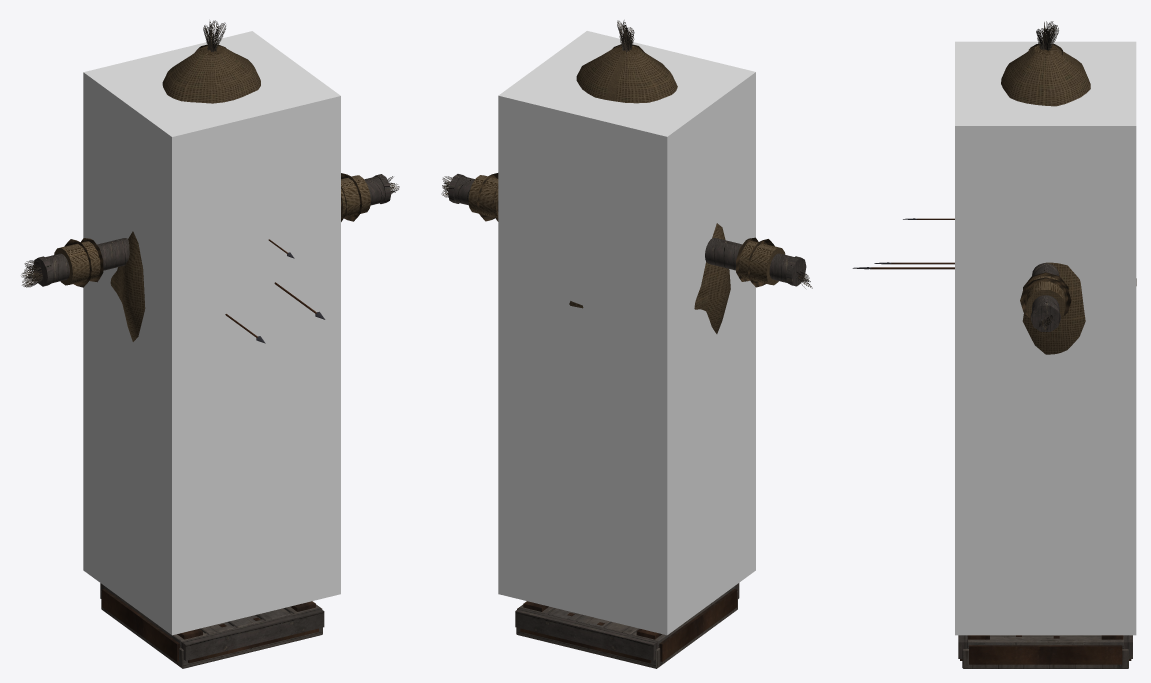
Rendered from prop_training_dummy_tex.glb.
3 renders of one model, left to right at view 1: azimuth 30°, elevation 25°; view 2: azimuth 150°, elevation 25°; view 3: azimuth 270°, elevation 25°, orthographic. The views are drawn at different scales.
Parts seen in each view (by area): view 1: col_dummy, dummy; view 2: col_dummy, dummy; view 3: col_dummy, dummy.
Boxes of the visible parts, left/top/right/bottom form: col_dummy: left=83, top=31, right=340, bottom=635; dummy: left=21, top=20, right=399, bottom=668; col_dummy: left=498, top=31, right=755, bottom=635; dummy: left=441, top=20, right=812, bottom=668; col_dummy: left=955, top=41, right=1136, bottom=635; dummy: left=852, top=21, right=1136, bottom=668.
Bounding box in the file's own units: 1.24 × 1.89 × 0.7843.
11 materials, 10 textured.
